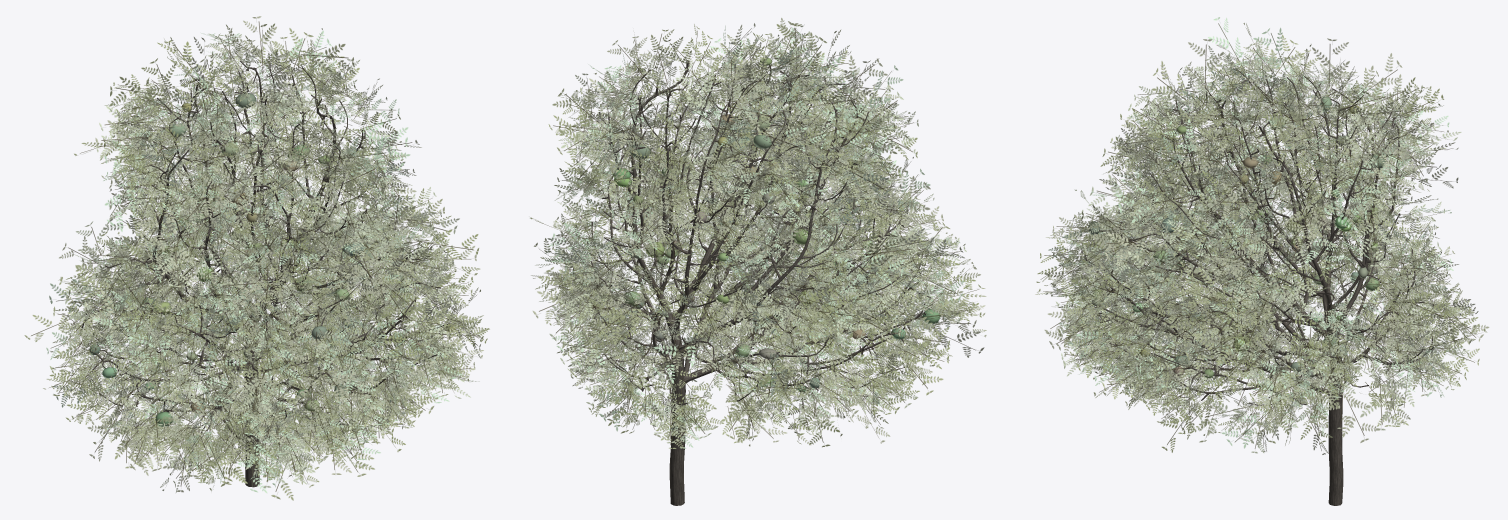
The model's file is tree_43_broadleaf.glb.
The picture shows the model from 3 angles, left to right: view 1: azimuth 30°, elevation 25°; view 2: azimuth 150°, elevation 25°; view 3: azimuth 270°, elevation 25°; orthographic projection. The views are drawn at different scales.
Parts seen in each view (by area): view 1: tree_43_broadleaf.leaves, tree_43_broadleaf.trunk_branches, tree_43_broadleaf.foliage_volume; view 2: tree_43_broadleaf.leaves, tree_43_broadleaf.trunk_branches, tree_43_broadleaf.foliage_volume; view 3: tree_43_broadleaf.leaves, tree_43_broadleaf.trunk_branches, tree_43_broadleaf.foliage_volume.
Part boxes in pixels (x1,y1,x2,y2): tree_43_broadleaf.leaves: (24, 16, 489, 500); tree_43_broadleaf.trunk_branches: (82, 60, 447, 487); tree_43_broadleaf.foliage_volume: (89, 93, 455, 426); tree_43_broadleaf.leaves: (530, 18, 986, 448); tree_43_broadleaf.trunk_branches: (573, 61, 931, 505); tree_43_broadleaf.foliage_volume: (613, 57, 940, 391); tree_43_broadleaf.leaves: (1035, 17, 1489, 454); tree_43_broadleaf.trunk_branches: (1081, 68, 1435, 505); tree_43_broadleaf.foliage_volume: (1088, 96, 1386, 378).
Bounding box in the file's own units: 11.32 × 12.7 × 12.09.
Materials: 3 (2 with a texture image).
